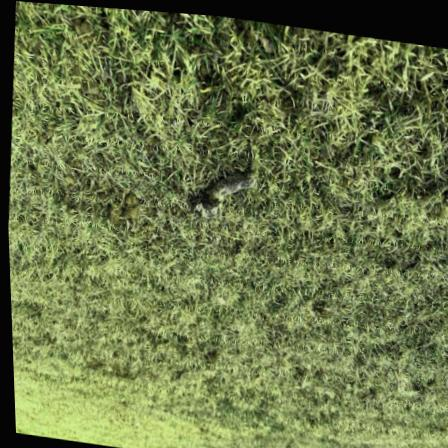dog-poop: (182, 156, 270, 223)
